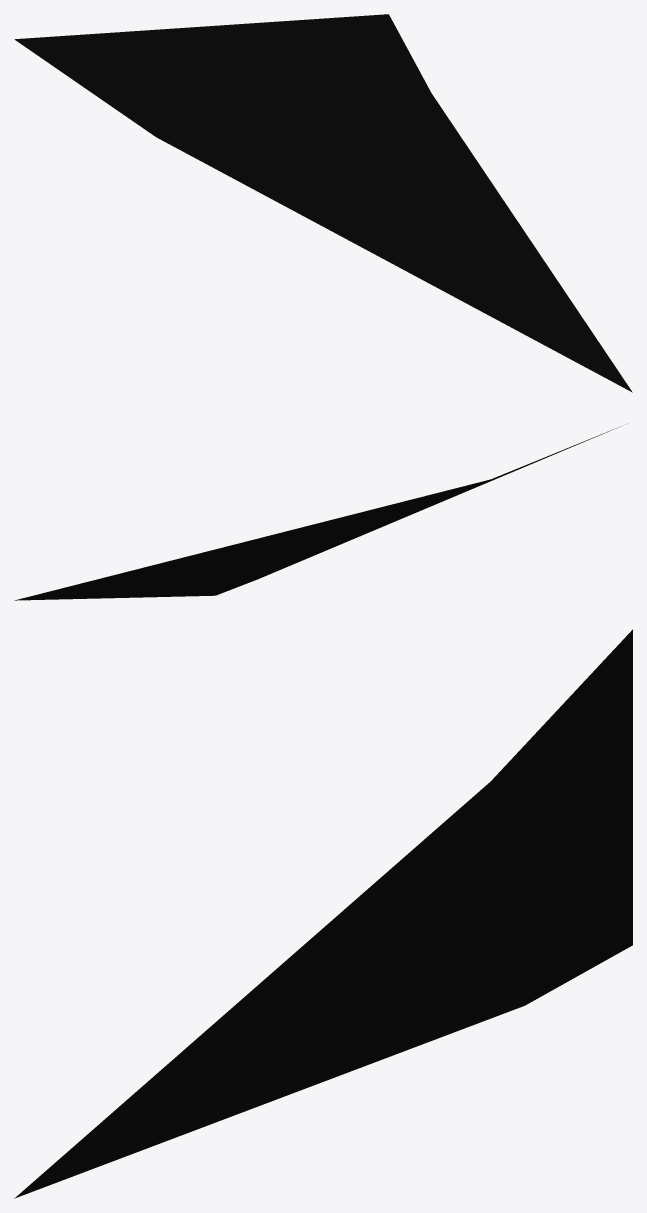
3 renders of one model, top to bottom at view 1: azimuth 30°, elevation 25°; view 2: azimuth 210°, elevation 25°; view 3: azimuth 270°, elevation 25°, orthographic. The views are drawn at different scales.
Size of the model in its own units: 0.8081 by 0.5487 by 0.9115.
Materials: 1 (1 with a texture image).
